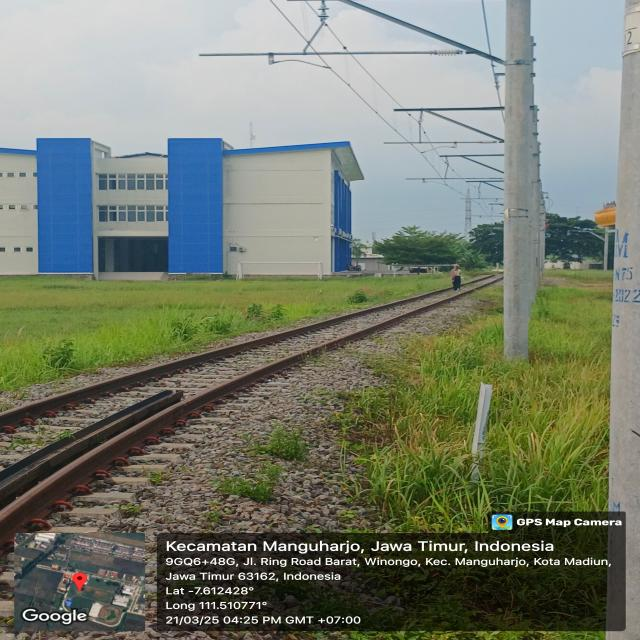rail-detection: (0, 289, 473, 542), (0, 288, 450, 421), (32, 502, 43, 508), (29, 503, 29, 509)
